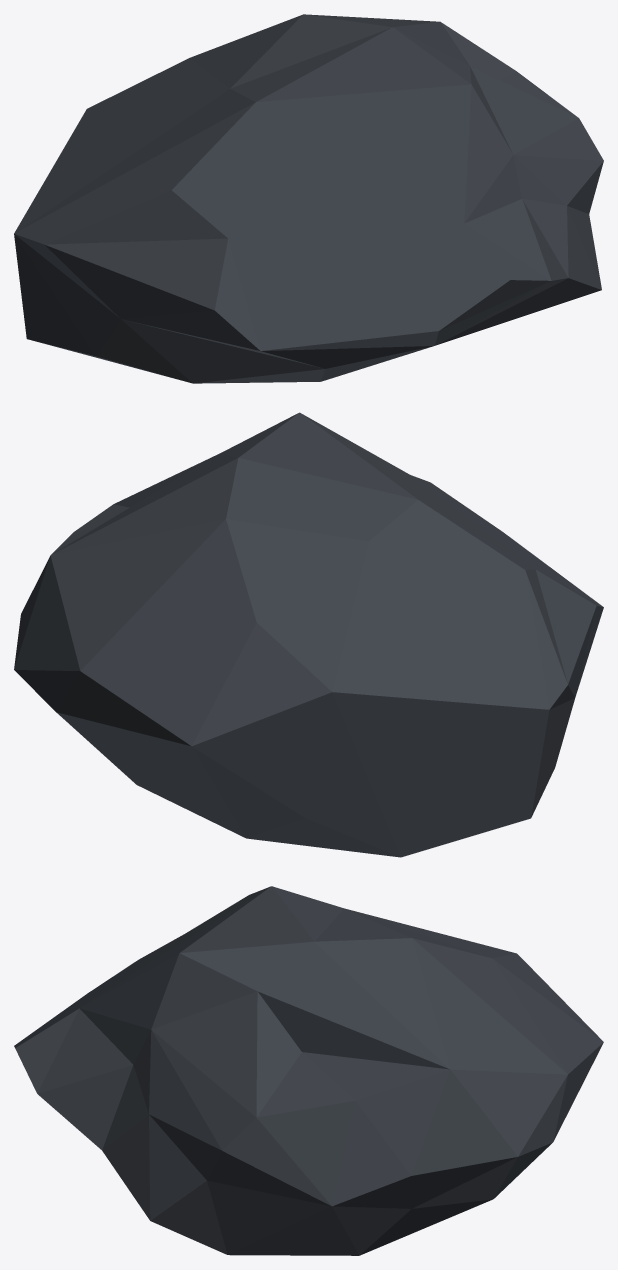
The model's file is stone_drop4_v1.fbx.
3 views of the same model, one above another, from view 1: azimuth 30°, elevation 25°; view 2: azimuth 150°, elevation 25°; view 3: azimuth 270°, elevation 25° (orthographic). The views are drawn at different scales.
Parts seen in each view (by area): view 1: stone_drop4_v1; view 2: stone_drop4_v1; view 3: stone_drop4_v1.
Boxes of the visible parts, box(x1,y1,x2,y2) form: stone_drop4_v1: box(14, 14, 603, 383); stone_drop4_v1: box(14, 412, 603, 857); stone_drop4_v1: box(14, 886, 603, 1255).
Bounding box in the file's own units: 13.18 × 7.36 × 13.15.
